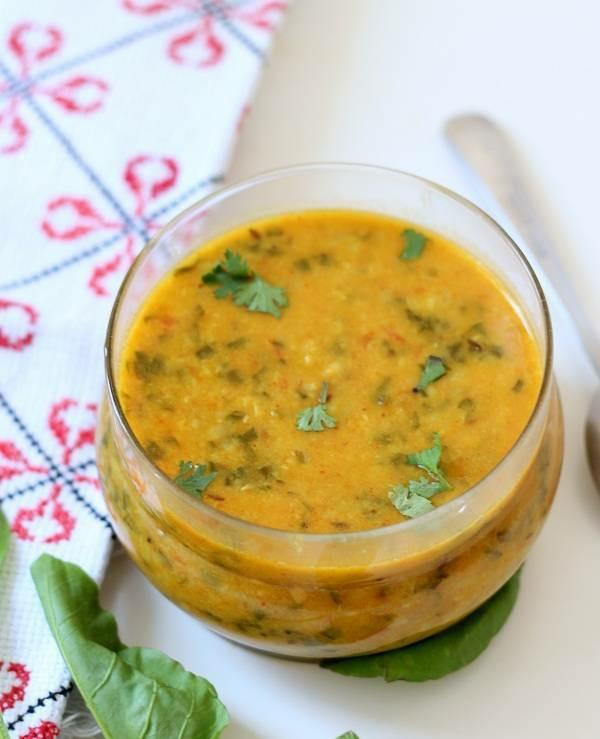Dal: (121, 207, 536, 529)
